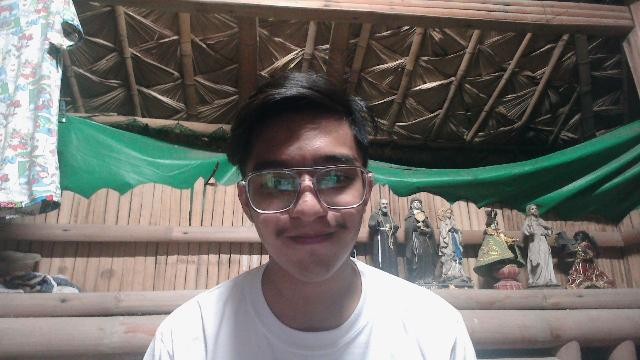senang: (234, 100, 377, 287)
